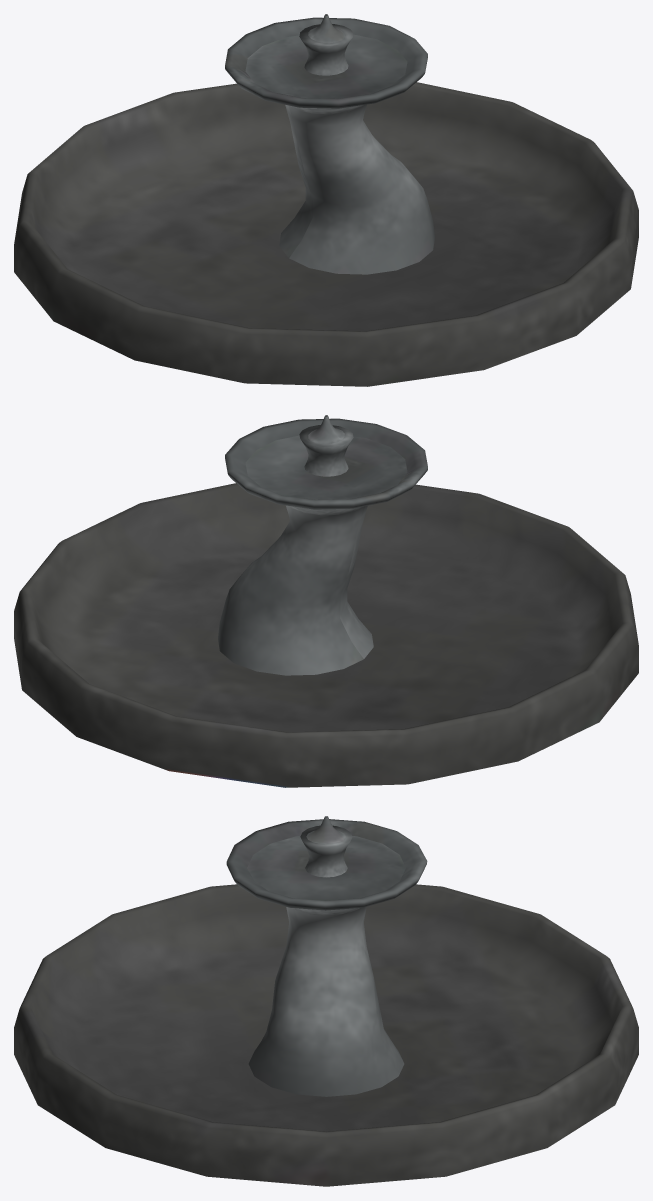
Rendered from Chafariz.fbx.
3 renders of one model, top to bottom at view 1: azimuth 30°, elevation 25°; view 2: azimuth 150°, elevation 25°; view 3: azimuth 270°, elevation 25°, orthographic.
Visible parts, largest first — view 1: LOD_0; view 2: LOD_0; view 3: LOD_0.
Part boxes in pixels (x1=…): LOD_0: x1=14, y1=14, x2=638, y2=386; LOD_0: x1=14, y1=415, x2=638, y2=787; LOD_0: x1=14, y1=816, x2=638, y2=1186.
Size of what is drawn, in the model's own units: 200 by 83.98 by 200.
